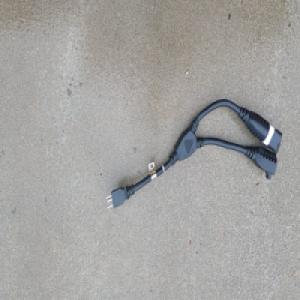Wire: (105, 97, 283, 210)
